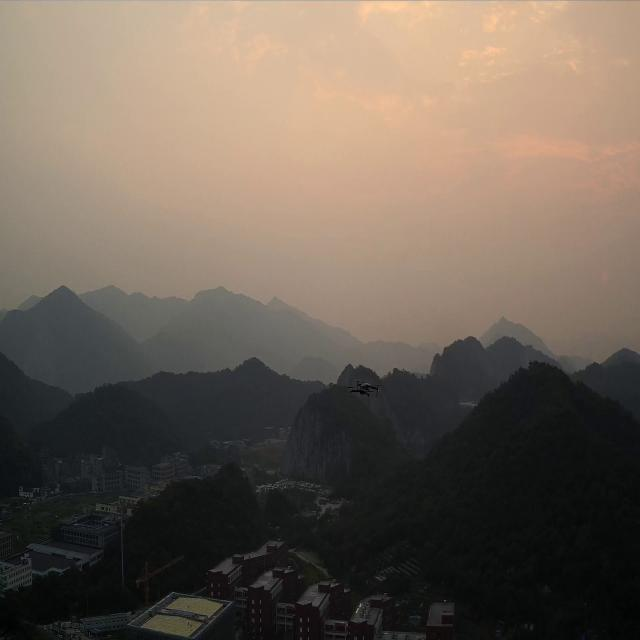UAV: (344, 381, 382, 396)
